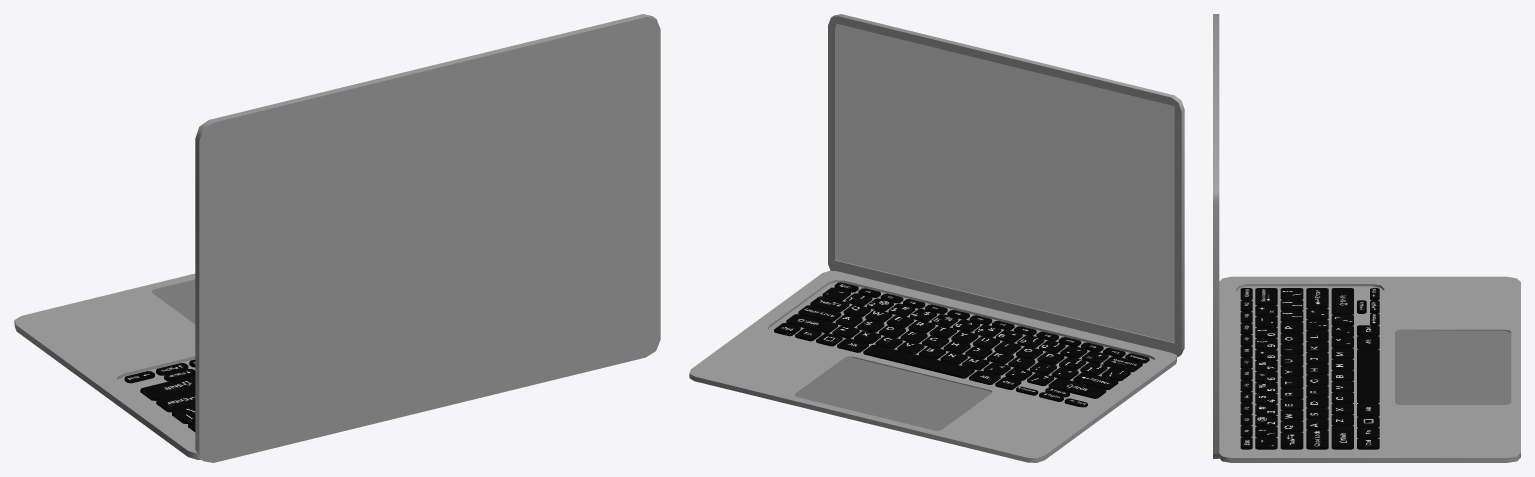
File: laptop.fbx
The picture shows the model from 3 angles, left to right: view 1: azimuth 30°, elevation 25°; view 2: azimuth 150°, elevation 25°; view 3: azimuth 270°, elevation 25°; orthographic projection. The views are drawn at different scales.
Visible parts, largest first — view 1: laptop_lid, laptop_base, laptop_keyboard; view 2: laptop_screen, laptop_base, laptop_keyboard, laptop_lid; view 3: laptop_base, laptop_keyboard, laptop_lid.
Boxes of the visible parts, x1,y1,x2,y2 form: laptop_lid: [195, 14, 660, 462]; laptop_base: [14, 273, 200, 459]; laptop_keyboard: [124, 359, 195, 431]; laptop_screen: [835, 23, 1174, 342]; laptop_base: [689, 270, 1176, 462]; laptop_keyboard: [774, 282, 1149, 407]; laptop_lid: [828, 14, 1184, 357]; laptop_base: [1219, 276, 1520, 462]; laptop_keyboard: [1240, 288, 1379, 449]; laptop_lid: [1213, 14, 1219, 458].
Size of the model in its own units: 0.356 by 0.2555 by 0.2571.
